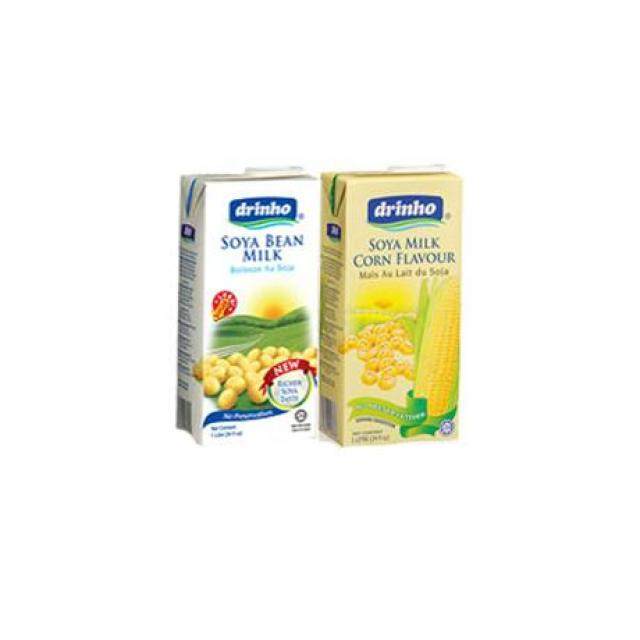drink carton: (178, 166, 318, 445), (328, 165, 461, 438), (326, 276, 332, 278)
